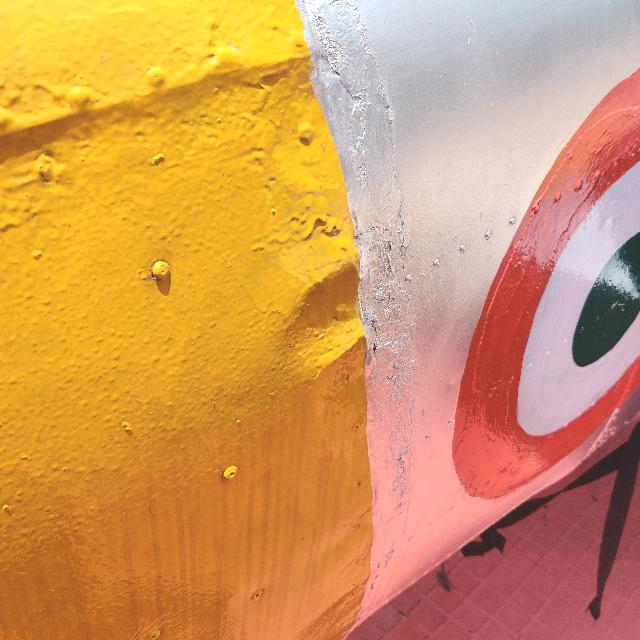dent: (260, 239, 408, 405)
